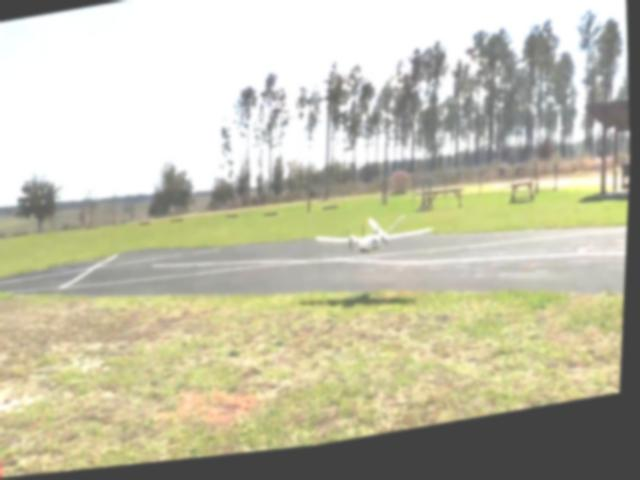plane: (316, 215, 437, 274)
